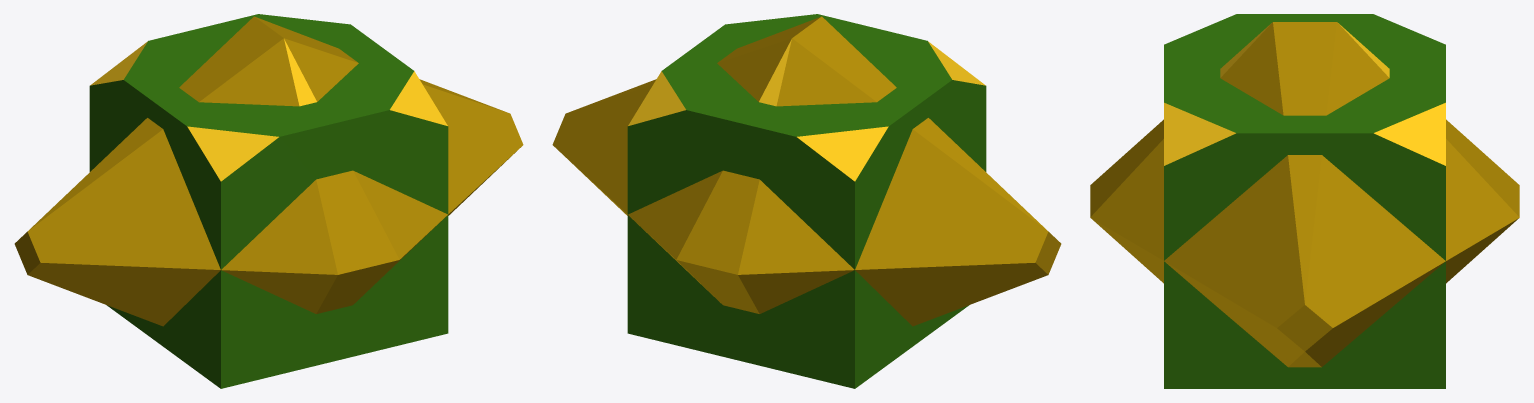
The model's file is snake_body_test_03.fbx.
The picture shows the model from 3 angles, left to right: view 1: azimuth 30°, elevation 25°; view 2: azimuth 150°, elevation 25°; view 3: azimuth 270°, elevation 25°; orthographic projection. The views are drawn at different scales.
Parts seen in each view (by area): view 1: snake_body_test_03; view 2: snake_body_test_03; view 3: snake_body_test_03.
Part boxes in pixels (x1=…): snake_body_test_03: x1=14, y1=14, x2=523, y2=388; snake_body_test_03: x1=552, y1=14, x2=1061, y2=388; snake_body_test_03: x1=1090, y1=14, x2=1519, y2=388.
Bounding box in the file's own units: 1.24 × 0.7015 × 0.8882.
1 material, 1 textured.
